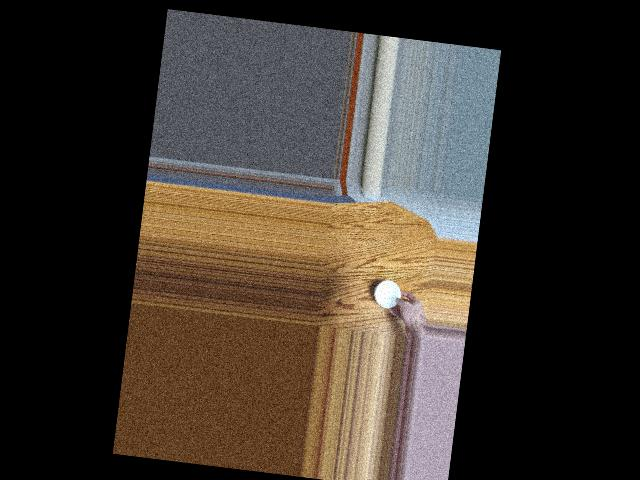cotage: (373, 277, 408, 312)
